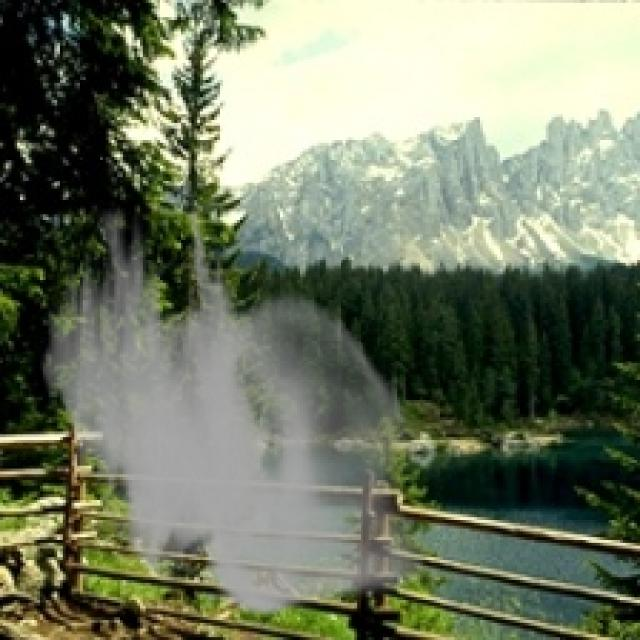smoke: (37, 209, 426, 617)
